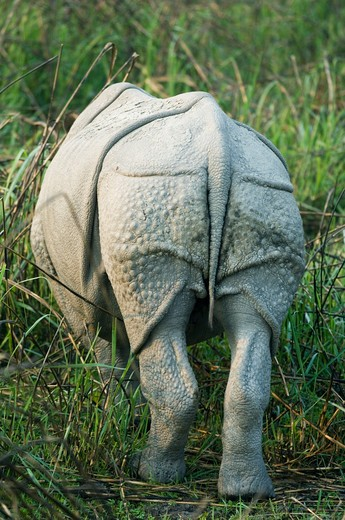rhinoceros: (32, 85, 282, 509)
